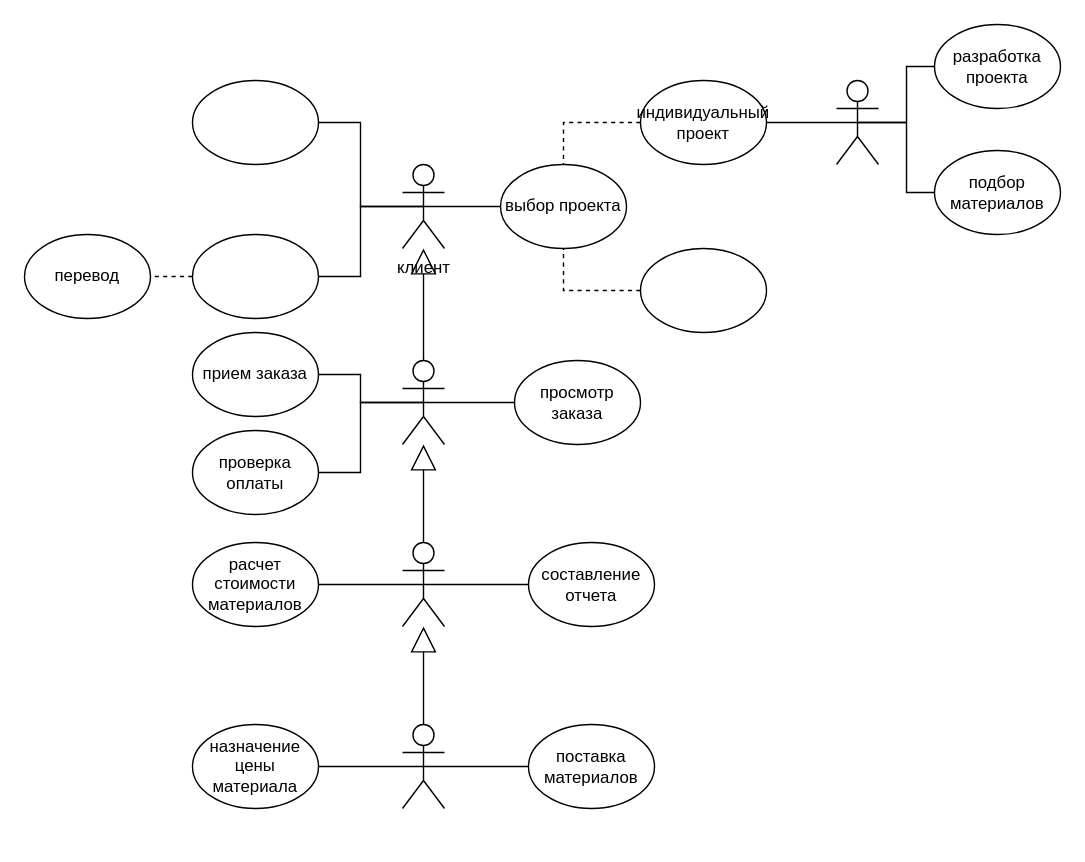
Image size: 1085x862. Some labels were removed from this diagram. Here are the shapes that lost their labels. From the top down, the box of each, then its label:
(191, 79, 318, 164): сделать заказ
(835, 79, 878, 164): архитектор
(191, 233, 318, 318): оплата
(639, 247, 766, 332): готовый проект
(401, 359, 444, 444): менеджер
(401, 541, 444, 626): бухгалтер
(401, 723, 444, 808): поставщик
